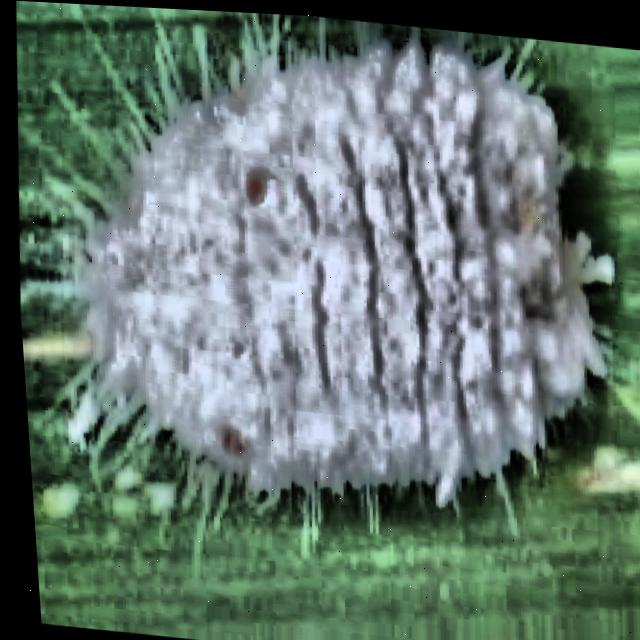Mealy-bug: (0, 0, 640, 578)
